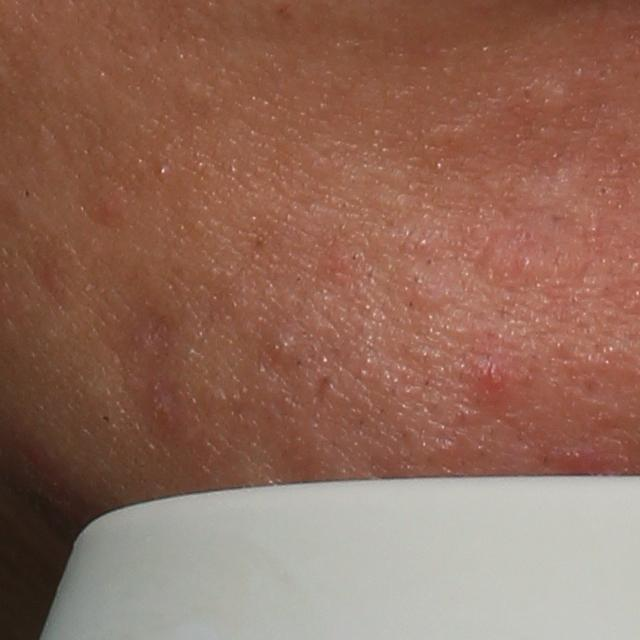comedo: (264, 332, 302, 372)
hypertrophic_scar: (507, 165, 608, 238), (469, 231, 536, 288), (525, 73, 575, 119)
papule: (394, 264, 443, 312), (470, 349, 511, 393)
